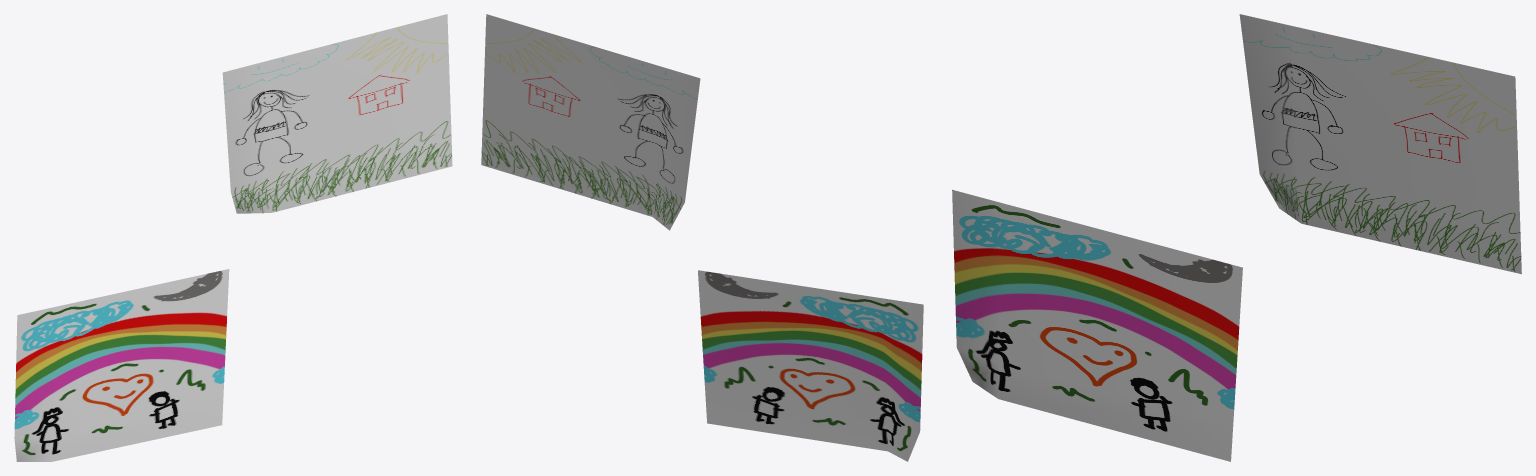
File: Prop_dibujos.fbx
The picture shows the model from 3 angles, left to right: view 1: azimuth 30°, elevation 25°; view 2: azimuth 150°, elevation 25°; view 3: azimuth 330°, elevation 25°; orthographic projection. The views are drawn at different scales.
Visible parts, largest first — view 1: Hoja3; view 2: Hoja3; view 3: Hoja3.
Boxes of the visible parts, x1,y1,x2,y2 form: Hoja3: (14,14,452,461); Hoja3: (481,14,923,461); Hoja3: (952,14,1521,461).
Bounding box in the file's own units: 0.5982 × 0.4635 × 0.0431.
2 materials, 2 textured.
